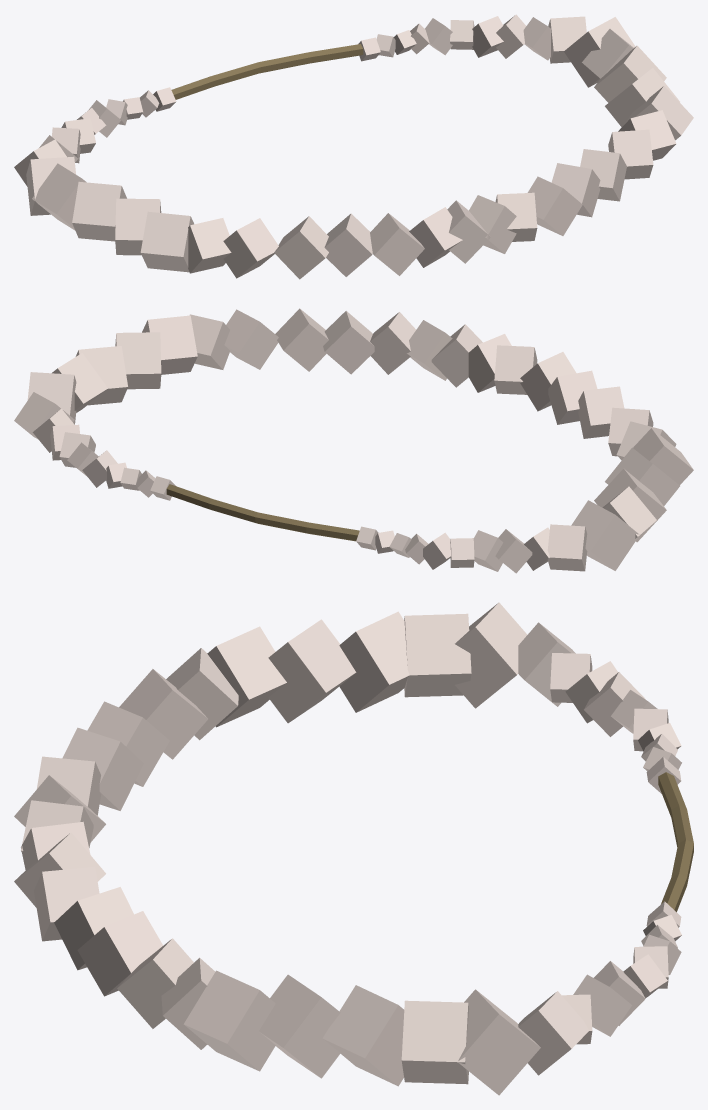
File: Jewelry1.fbx
The picture shows the model from 3 angles, top to bottom: view 1: azimuth 30°, elevation 25°; view 2: azimuth 150°, elevation 25°; view 3: azimuth 270°, elevation 25°; orthographic projection. The views are drawn at different scales.
Parts seen in each view (by area): view 1: Cylinder; view 2: Cylinder; view 3: Cylinder.
Part boxes in pixels (x1,y1,x2,y2): Cylinder: (14,14,693,279); Cylinder: (14,308,693,573); Cylinder: (14,602,693,1095).
Size of the model in its own units: 119 by 10.58 by 79.94.
